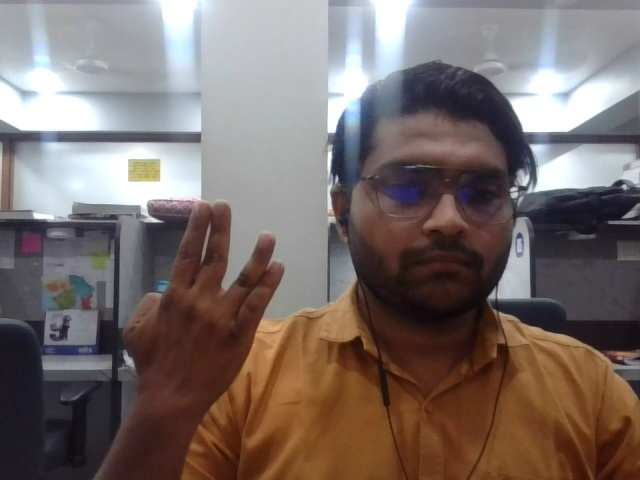LiveLong: (123, 196, 302, 400)
